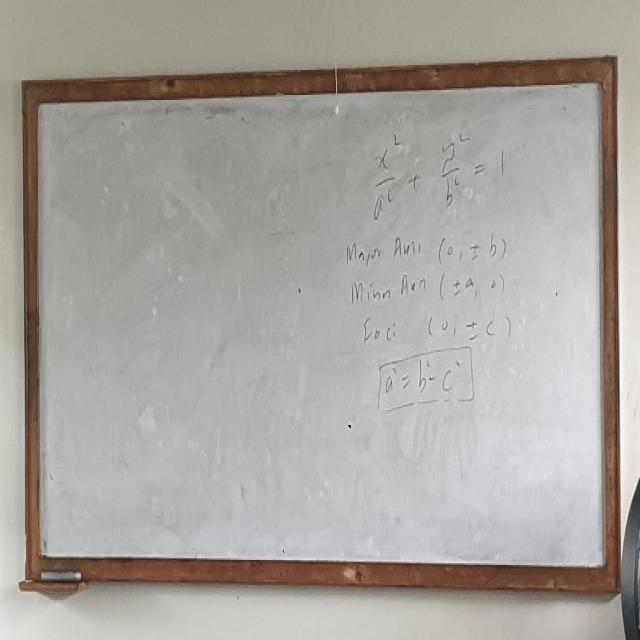White-board: (32, 71, 610, 578)
